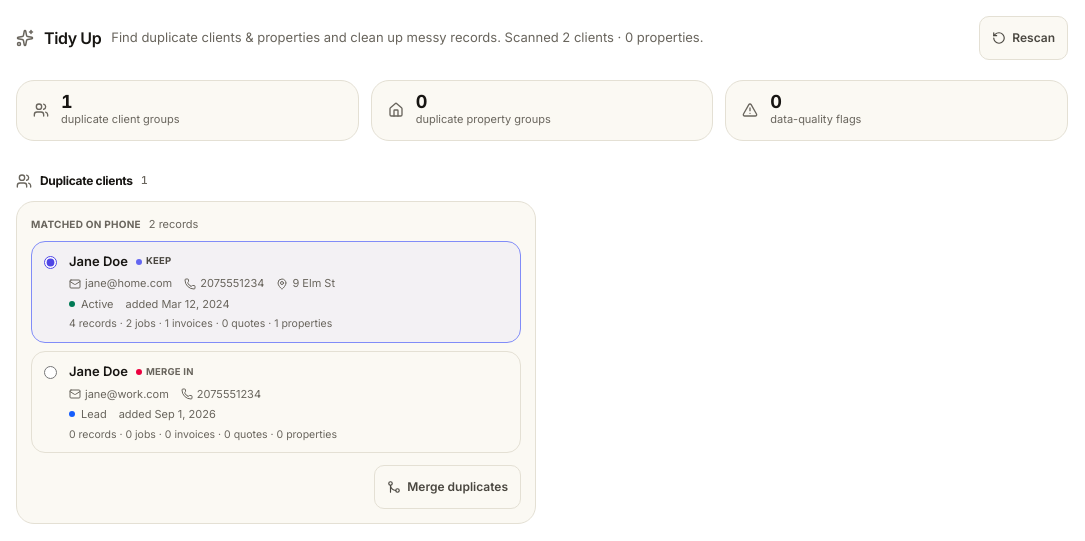
Scenario: Cleanup › shows a duplicate group and merges it on confirm
Expected: the text "matched on phone" is shown, [31,217,141,232]
Expected: the text "Jane Doe" is shown 2 times, [69,252,128,271]; [69,362,128,382]
// two-step confirm
Click the button "Merge duplicates".
click(448, 487)  # box [374,465,521,509]
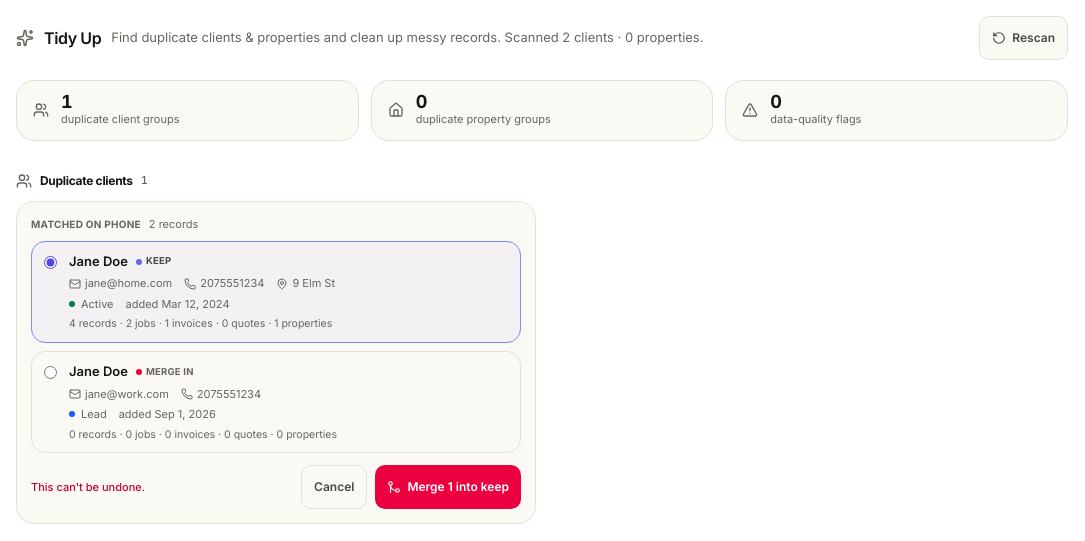
Click the button "Merge 1 into keep".
click(448, 487)  # box [375,465,521,509]
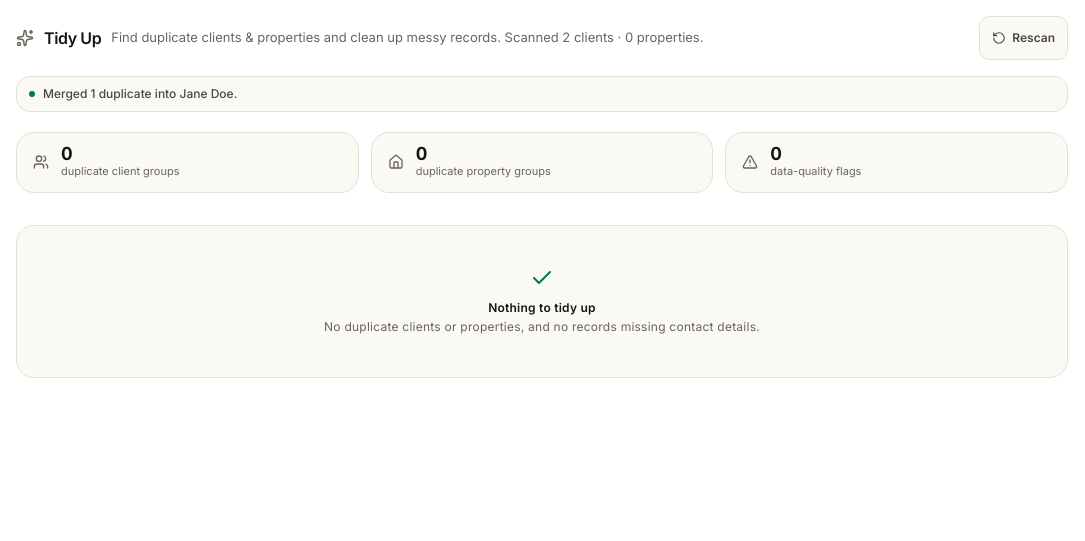
Expected: the text "Merged 1 duplicate into Jane Doe." is shown, [16,76,1068,112]
Expected: the text "matched on phone" is gone
Expected: the text "Nothing to tidy up" is shown, [488,300,596,314]
